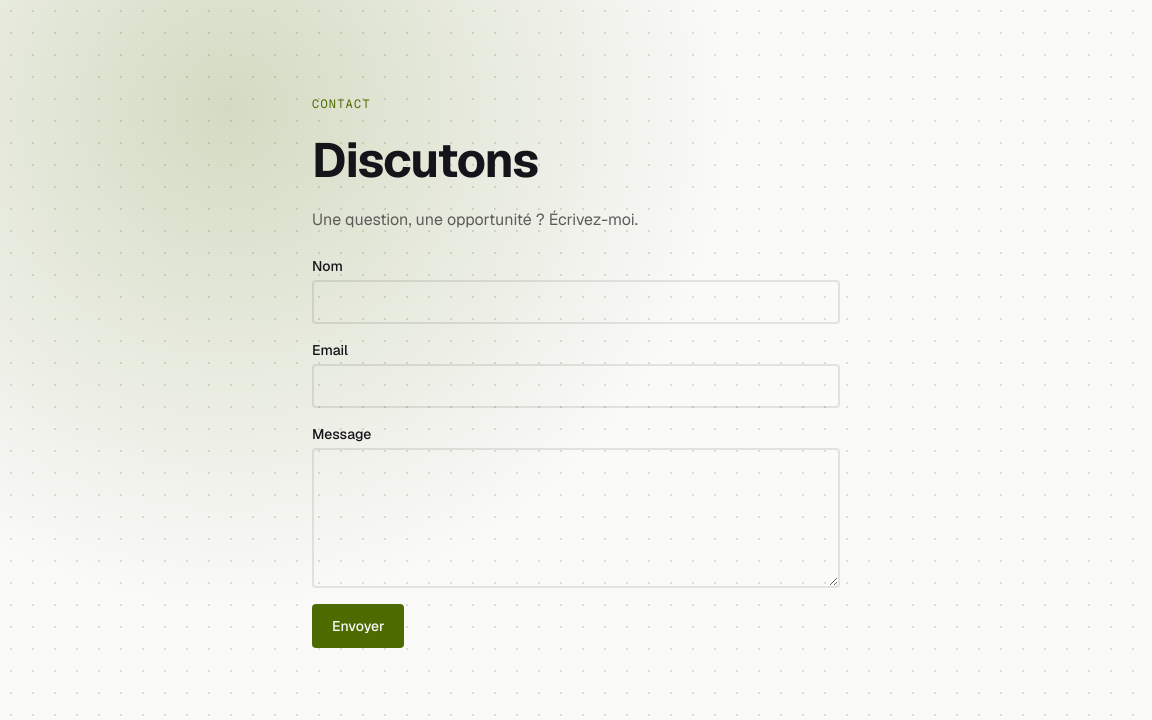
it: Contact page › affiche des erreurs de validation quand le formulaire est vide
Click the button "Envoyer" at (358, 626), box [312, 604, 404, 648]
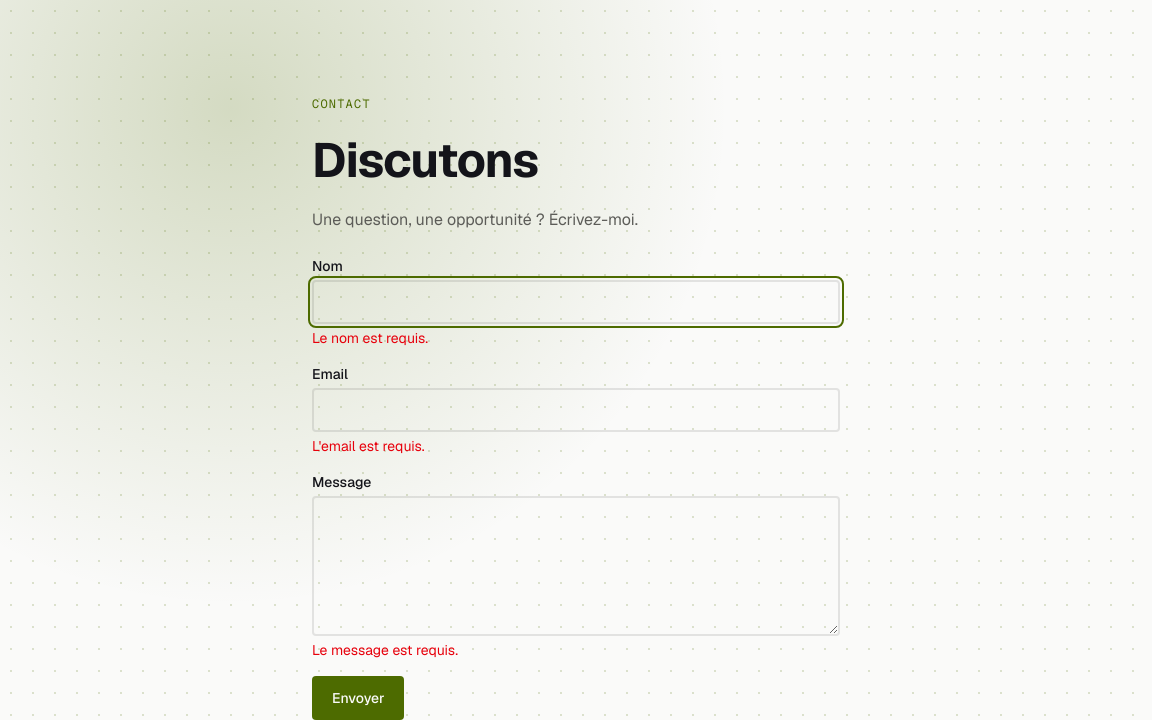
Now the text "Le nom est requis." is shown, box [312, 329, 428, 347]
Now the text "L'email est requis." is shown, box [312, 437, 425, 455]
Now the text "Le message est requis." is shown, box [312, 641, 458, 659]
